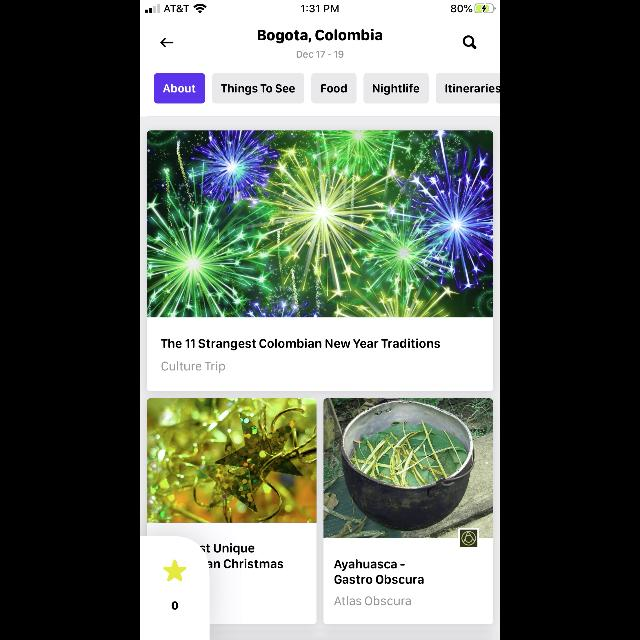icon: (163, 559, 187, 581), (463, 36, 477, 50), (160, 38, 173, 48)
image: (147, 130, 493, 318), (324, 398, 493, 538), (148, 399, 316, 523), (460, 530, 478, 546)
text: (162, 339, 440, 351), (200, 543, 284, 569), (334, 560, 424, 584), (258, 28, 382, 44), (334, 596, 411, 606), (161, 361, 225, 373), (296, 51, 344, 58), (172, 602, 178, 610)
textbutton: (212, 74, 304, 104), (364, 74, 428, 104), (436, 73, 500, 103), (154, 74, 206, 104), (312, 73, 356, 103)
uppertaskbar: (140, 0, 500, 14)
